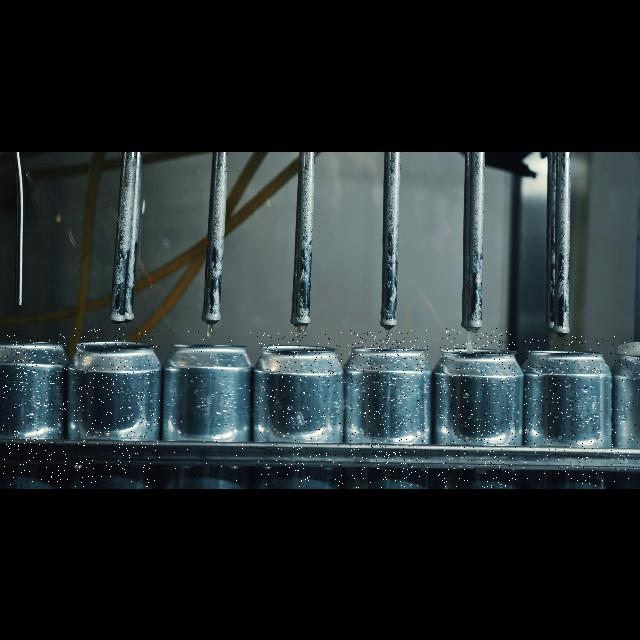empty: (74, 328, 160, 488), (257, 332, 343, 488), (170, 328, 252, 488), (348, 330, 428, 488), (438, 328, 516, 488), (523, 336, 603, 488), (2, 334, 68, 488)
full: (610, 336, 640, 488)
